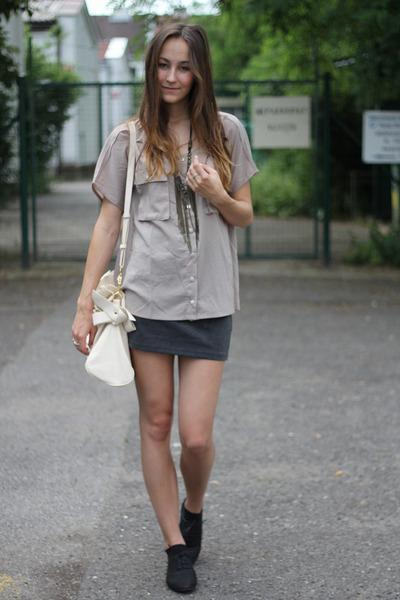bag: (85, 159, 136, 385)
shirt: (93, 111, 261, 319)
shoe: (165, 507, 202, 594)
skirt: (127, 315, 231, 371)
